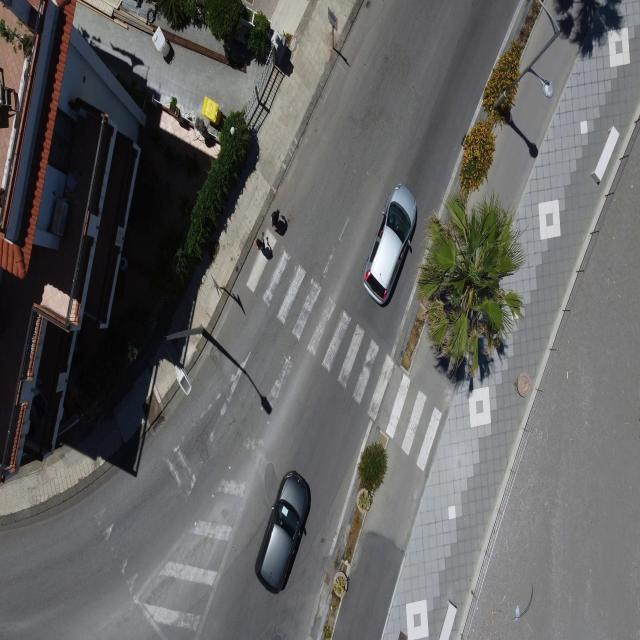Car: (361, 180, 424, 312), (255, 464, 315, 597)
